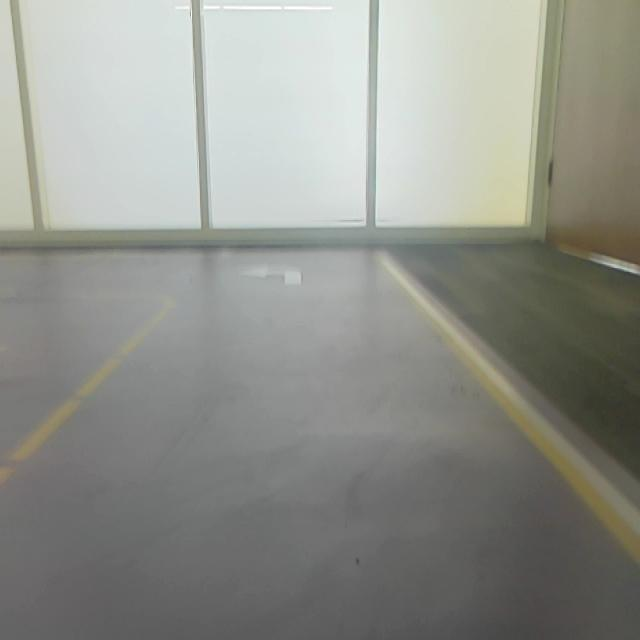left_lane: (381, 259, 640, 566), (0, 307, 169, 488)
